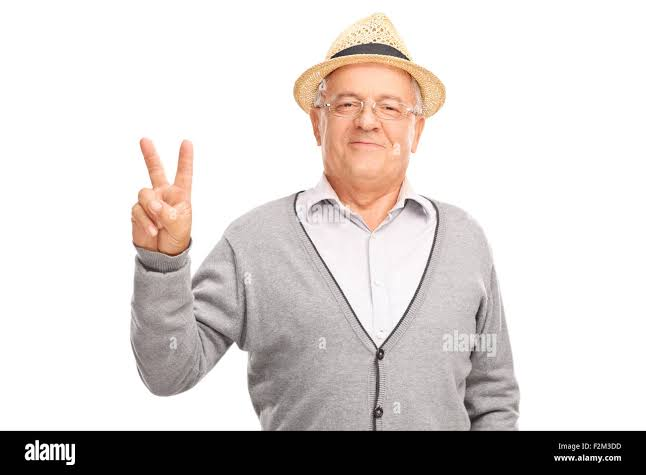peace_sign: (123, 127, 200, 259)
